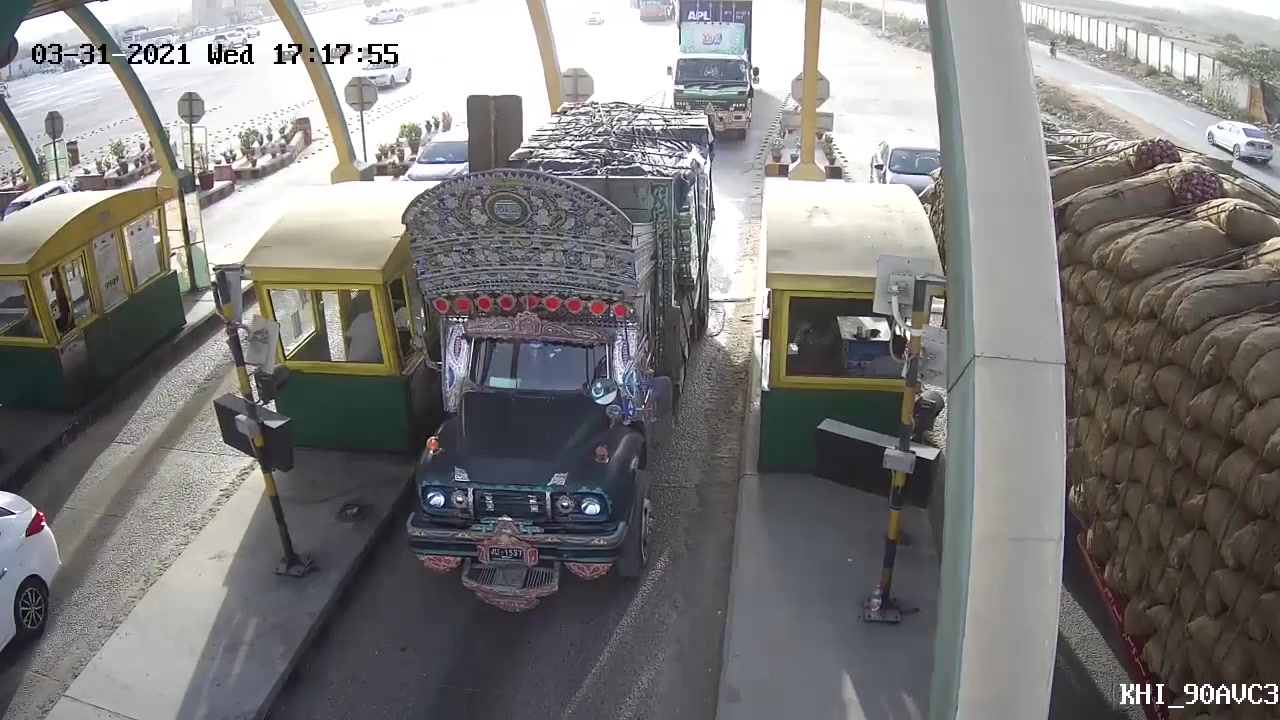F4: (400, 109, 722, 608)
